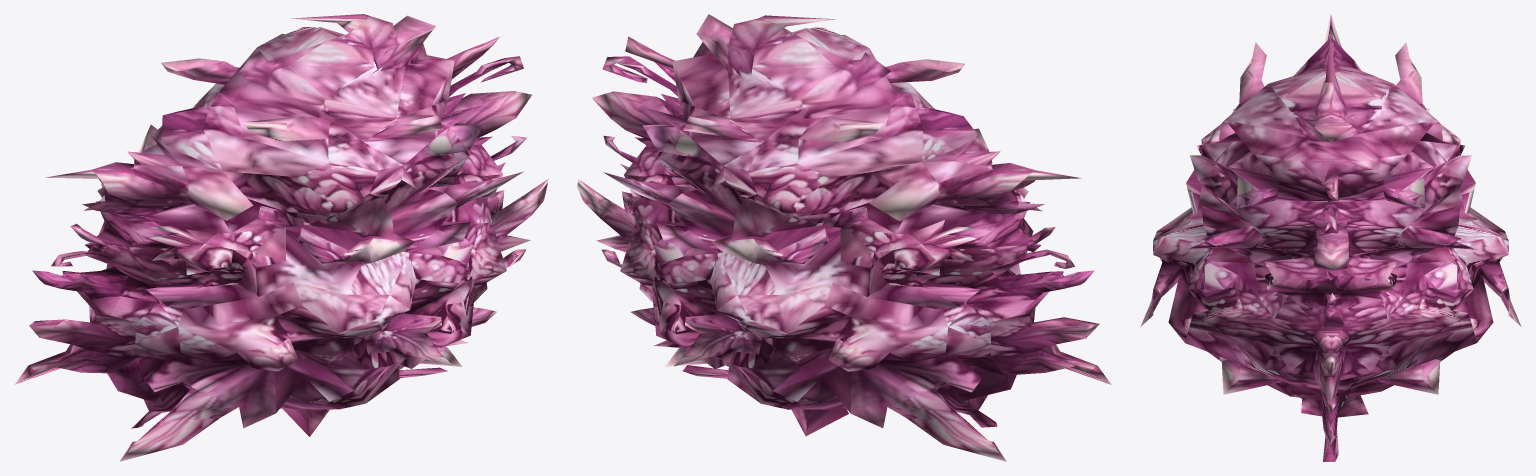
File: bubblegum_bud.glb
3 views of the same model, side by side, from view 1: azimuth 30°, elevation 25°; view 2: azimuth 150°, elevation 25°; view 3: azimuth 270°, elevation 25° (orthographic). The views are drawn at different scales.
Parts seen in each view (by area): view 1: Mesh; view 2: Mesh; view 3: Mesh.
Part boxes in pixels (x1,y1,x2,y2): Mesh: [14, 14, 548, 461]; Mesh: [577, 14, 1111, 461]; Mesh: [1140, 15, 1521, 461].
Bounding box in the file's own units: 1.23 × 0.9211 × 0.8417.
Materials: 1 (1 with a texture image).
